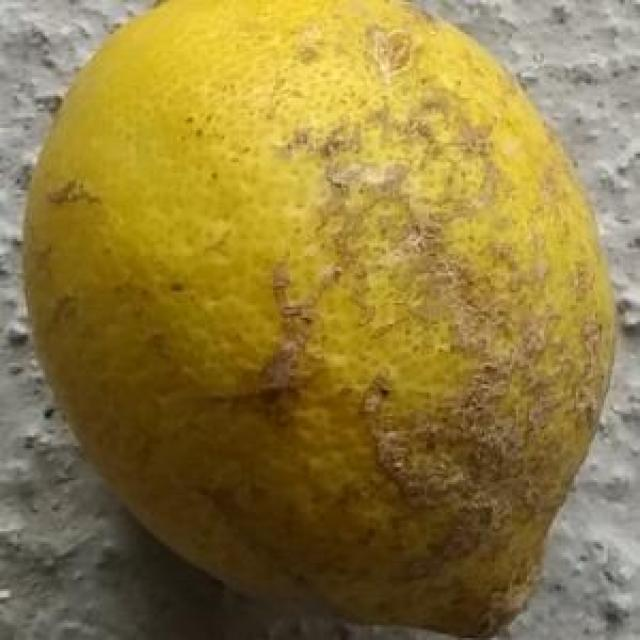lemon: (25, 2, 623, 640)
